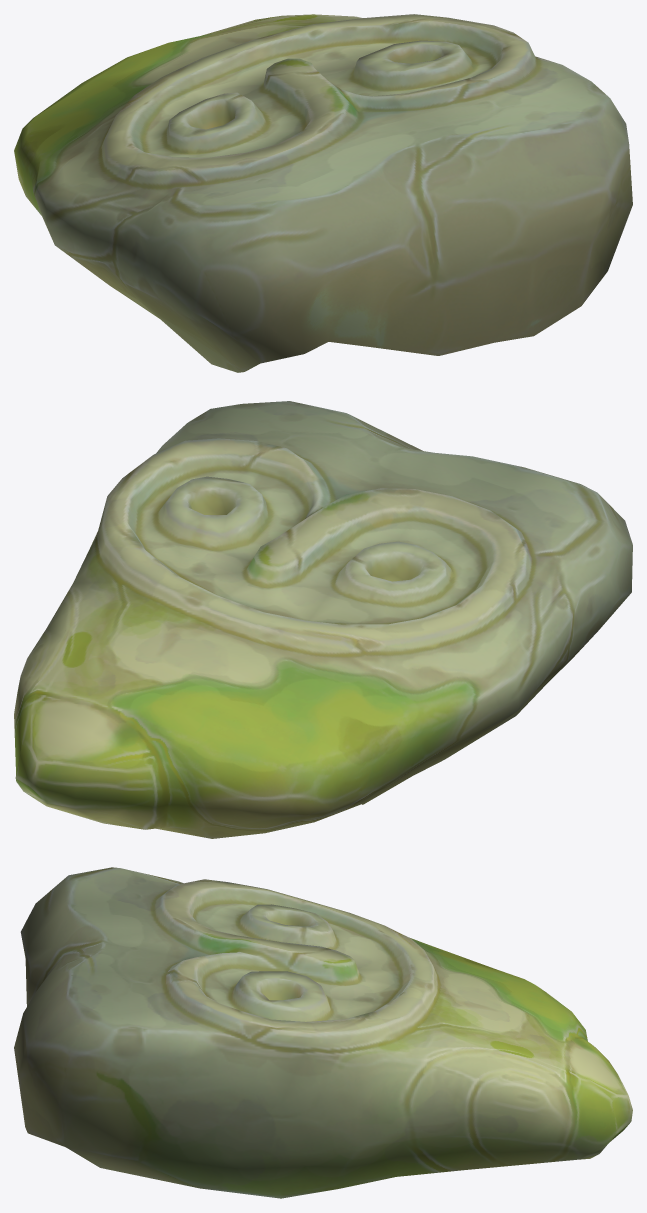
The model's file is HGS_YS01a.fbx.
The picture shows the model from 3 angles, top to bottom: view 1: azimuth 30°, elevation 25°; view 2: azimuth 150°, elevation 25°; view 3: azimuth 270°, elevation 25°; orthographic projection. The views are drawn at different scales.
Parts seen in each view (by area): view 1: HGS_YS01a; view 2: HGS_YS01a; view 3: HGS_YS01a.
Boxes of the visible parts, x1=… form: HGS_YS01a: x1=14, y1=14, x2=632, y2=372; HGS_YS01a: x1=14, y1=401, x2=632, y2=838; HGS_YS01a: x1=14, y1=867, x2=632, y2=1198.
Size of the model in its own units: 382 by 191 by 510.
